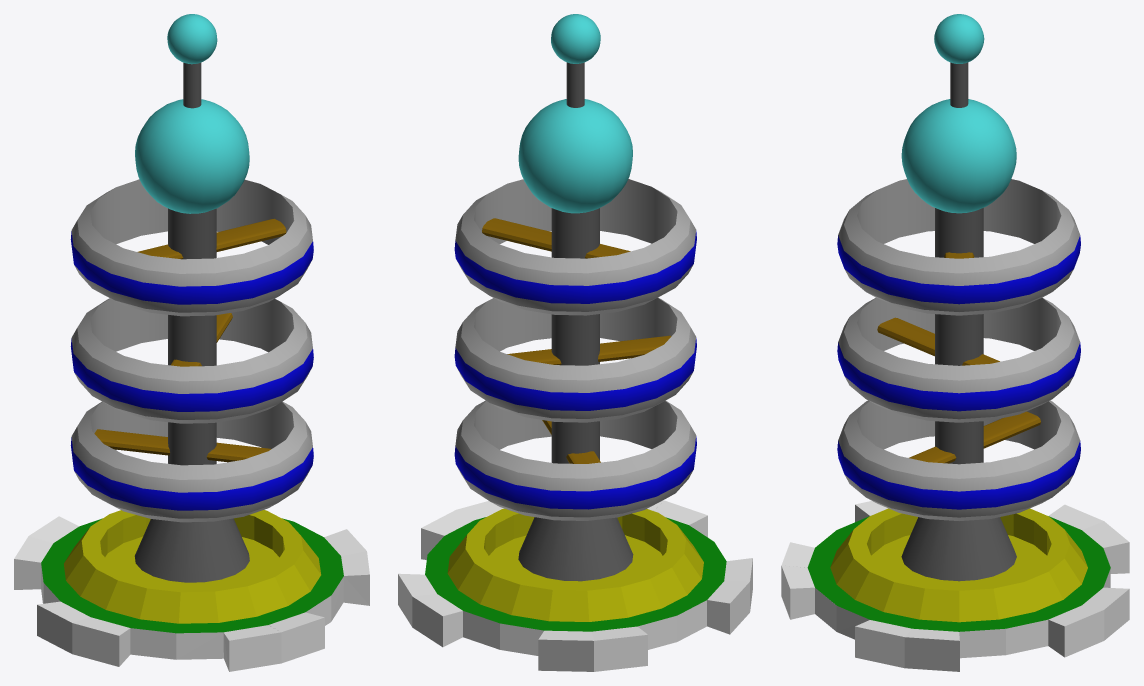
The model's file is machine5.fbx.
The picture shows the model from 3 angles, left to right: view 1: azimuth 30°, elevation 25°; view 2: azimuth 150°, elevation 25°; view 3: azimuth 270°, elevation 25°; orthographic projection.
Parts seen in each view (by area): view 1: machine5body, machine5cylinder2, machine5cylinder1, machine5cylinder, machine5knob, machine5body2, machine5body1, machine5rod2, machine5knob1, machine5rod; view 2: machine5body, machine5cylinder2, machine5cylinder1, machine5cylinder, machine5knob, machine5body2, machine5body1, machine5knob1, machine5rod, machine5rod1; view 3: machine5body, machine5cylinder2, machine5cylinder1, machine5cylinder, machine5knob, machine5body2, machine5body1, machine5knob1, machine5rod2, machine5rod1.
Boxes of the visible parts, box(x1,y1,x2,y2) form: machine5body: box(14, 509, 369, 671); machine5cylinder2: box(70, 179, 313, 316); machine5cylinder1: box(70, 298, 313, 423); machine5cylinder: box(70, 401, 313, 522); machine5knob: box(135, 99, 249, 213); machine5body2: box(168, 62, 216, 465); machine5body1: box(134, 518, 249, 582); machine5rod2: box(94, 429, 271, 462); machine5knob1: box(167, 14, 217, 64); machine5rod: box(138, 218, 286, 259); machine5body: box(398, 500, 752, 671); machine5cylinder2: box(454, 179, 696, 315); machine5cylinder1: box(454, 297, 696, 422); machine5cylinder: box(454, 400, 696, 520); machine5knob: box(518, 99, 632, 213); machine5body2: box(551, 62, 599, 463); machine5body1: box(518, 517, 633, 581); machine5knob1: box(551, 14, 600, 63); machine5rod: box(482, 218, 630, 258); machine5rod1: box(507, 335, 671, 365); machine5body: box(781, 501, 1129, 671); machine5cylinder2: box(837, 179, 1080, 315); machine5cylinder1: box(837, 297, 1080, 422); machine5cylinder: box(837, 400, 1080, 520); machine5knob: box(901, 99, 1016, 213); machine5body2: box(935, 62, 983, 464); machine5body1: box(901, 517, 1016, 581); machine5knob1: box(934, 14, 984, 63); machine5rod2: box(909, 411, 1040, 463); machine5rod1: box(877, 317, 999, 365).
Bounding box in the file's own units: 107 × 193 × 105.
